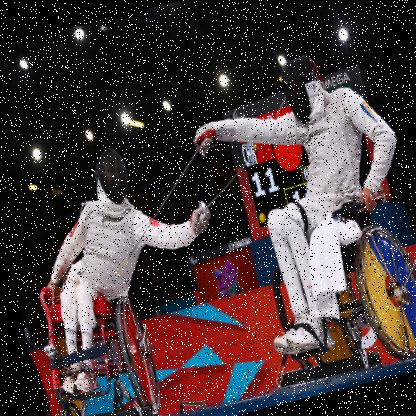fencer: (176, 35, 415, 371), (8, 123, 248, 403)
